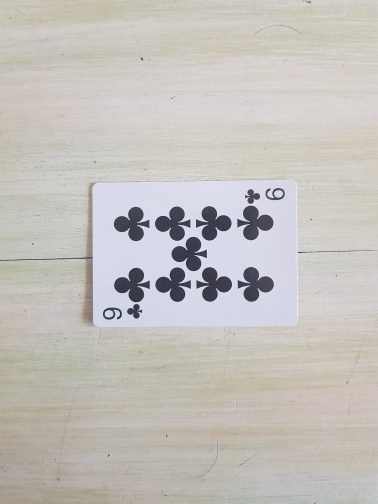nine: (90, 178, 300, 329)
